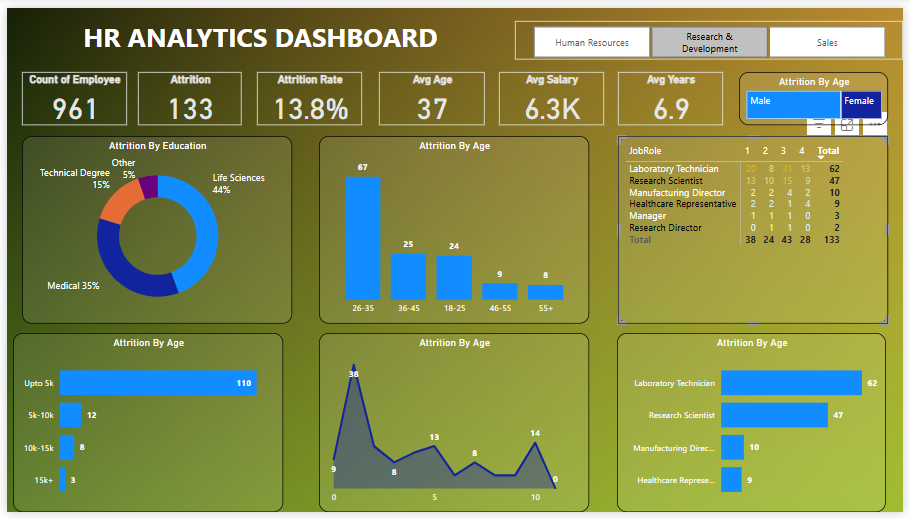

What the dashboard file says about the page in this screenshot:
{"tool":"powerbi","page":{"name":"Page 1","canvas":[1280,720],"ordinal":0},"visuals":[{"type":"card","title":"Count of Employee","fields":{"Values":["CountNonNull(HR_Analytics.EmpID)"]},"box":[21.6,90.7,149.8,76.3],"z":0},{"type":"card","title":"Attrition","fields":{"Values":["Sum(HR_Analytics.AttritionCount)"]},"box":[187.2,90.7,148.3,76.3],"z":1000},{"type":"card","title":"Attrition Rate","fields":{"Values":["HR_Analytics.AttritionRate"]},"box":[357.1,90.7,149.8,76.3],"z":2000},{"type":"card","title":"Avg Age","fields":{"Values":["Avg(HR_Analytics.Age)"]},"box":[531.4,90.7,151.2,76.3],"z":3000},{"type":"card","title":"Avg Years","fields":{"Values":["Avg(HR_Analytics.YearsAtCompany)"]},"box":[872.6,90.7,149.8,76.3],"z":4000},{"type":"card","title":"Avg Salary","fields":{"Values":["Avg(HR_Analytics.MonthlyIncome)"]},"box":[702.7,90.7,149.8,76.3],"z":5000},{"type":"donutChart","title":"Attrition By Education","fields":{"Category":["HR_Analytics.EducationField"],"Y":["Sum(HR_Analytics.AttritionCount)"]},"box":[21.6,182.9,385.9,267.8],"z":6000},{"type":"columnChart","title":"Attrition By Age","fields":{"Category":["HR_Analytics.AgeGroup"],"Y":["Sum(HR_Analytics.AttritionCount)"]},"box":[446.4,182.9,385.9,267.8],"z":7000},{"type":"pivotTable","fields":{"Rows":["HR_Analytics.JobRole"],"Columns":["HR_Analytics.JobSatisfaction"],"Values":["Sum(HR_Analytics.AttritionCount)"]},"box":[872.6,182.9,385.9,267.8],"z":8000},{"type":"barChart","title":"Attrition By Age","fields":{"Category":["HR_Analytics.SalarySlab"],"Y":["Sum(HR_Analytics.AttritionCount)"]},"box":[8.6,463.7,385.9,256.3],"z":9000},{"type":"barChart","title":"Attrition By Age","fields":{"Category":["HR_Analytics.JobRole"],"Y":["Sum(HR_Analytics.AttritionCount)"]},"box":[871.2,463.7,384.5,256.3],"z":10000},{"type":"areaChart","title":"Attrition By Age","fields":{"Category":["HR_Analytics.YearsAtCompany"],"Y":["Sum(HR_Analytics.AttritionCount)"]},"box":[446.4,463.7,385.9,256.3],"z":11000},{"type":"treemap","title":"Attrition By Age","fields":{"Group":["HR_Analytics.Gender"],"Values":["Sum(HR_Analytics.AttritionCount)"]},"box":[1045.4,90.7,213.1,76.3],"z":12000},{"type":"slicer","fields":{"Values":["HR_Analytics.Department"]},"box":[725.8,18.7,554.4,54.7],"z":13000},{"type":"textbox","box":[21.6,10.1,681.1,72],"z":14000}]}

Visuals, with their boxes in screenshot pixels (x1, y1, x2, y2), scaled from the page's 1280x720 canvas onto the 910x519 screenshot:
"Count of Employee" card: l=15, t=65, r=122, b=120
"Attrition" card: l=133, t=65, r=239, b=120
"Attrition Rate" card: l=254, t=65, r=360, b=120
"Avg Age" card: l=378, t=65, r=485, b=120
"Avg Years" card: l=620, t=65, r=727, b=120
"Avg Salary" card: l=500, t=65, r=606, b=120
"Attrition By Education" donutChart: l=15, t=132, r=290, b=325
"Attrition By Age" columnChart: l=317, t=132, r=592, b=325
pivotTable - HR_Analytics.JobRole x HR_Analytics.JobSatisfaction: l=620, t=132, r=895, b=325
"Attrition By Age" barChart: l=6, t=334, r=280, b=518
"Attrition By Age" barChart: l=619, t=334, r=893, b=518
"Attrition By Age" areaChart: l=317, t=334, r=592, b=518
"Attrition By Age" treemap: l=743, t=65, r=895, b=120
slicer - HR_Analytics.Department: l=516, t=13, r=909, b=53
textbox: l=15, t=7, r=500, b=59
